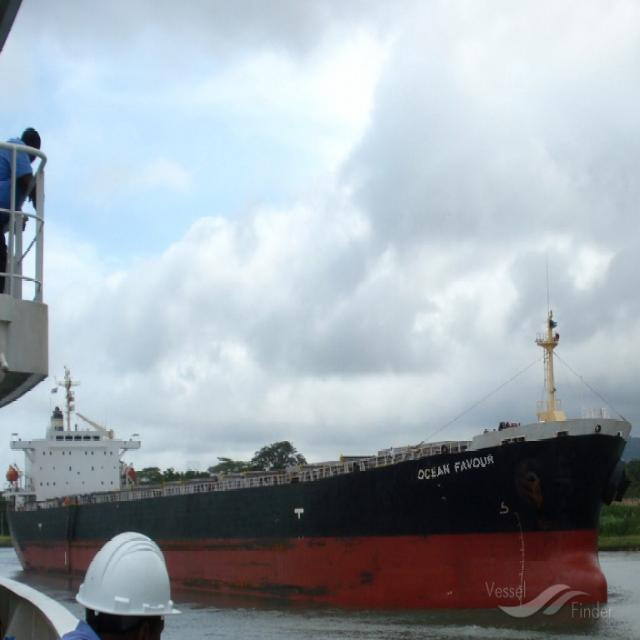OCR: (387, 454, 502, 494)
